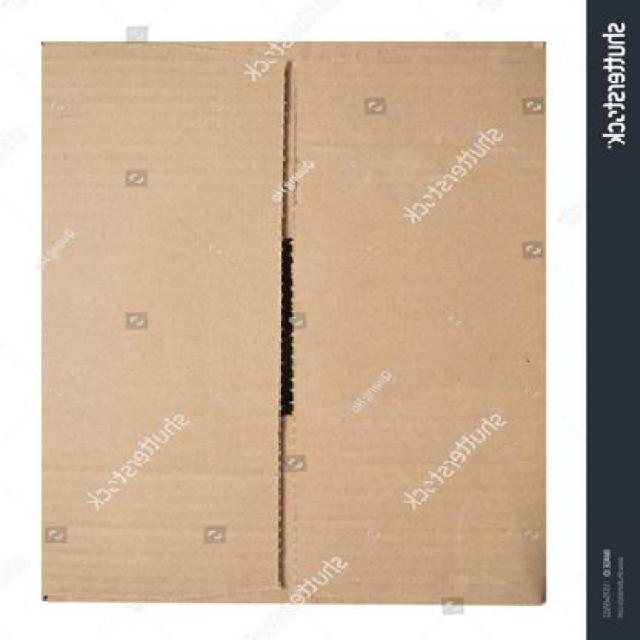normal: (32, 31, 554, 612)
